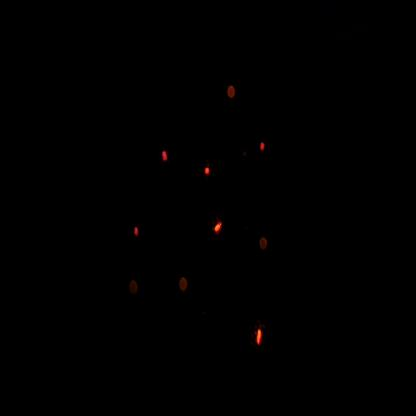PET: (129, 208, 148, 245), (160, 140, 176, 175), (253, 133, 271, 162)
PS: (176, 272, 192, 300), (126, 274, 143, 300), (256, 232, 273, 256), (225, 79, 238, 107)
PVC: (250, 316, 268, 354), (211, 212, 227, 247), (200, 159, 215, 185)
